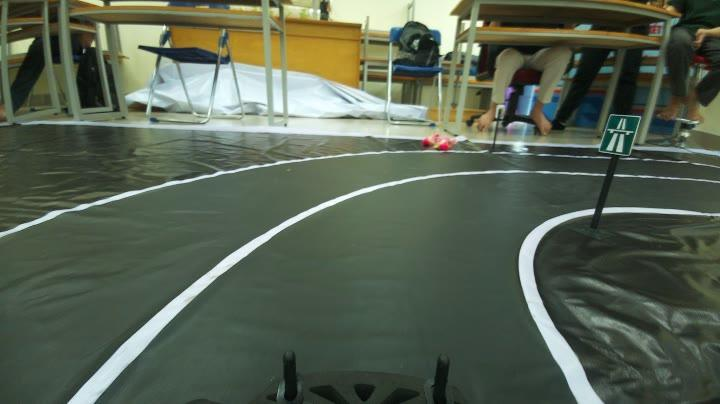highway_entry: (600, 110, 642, 158)
